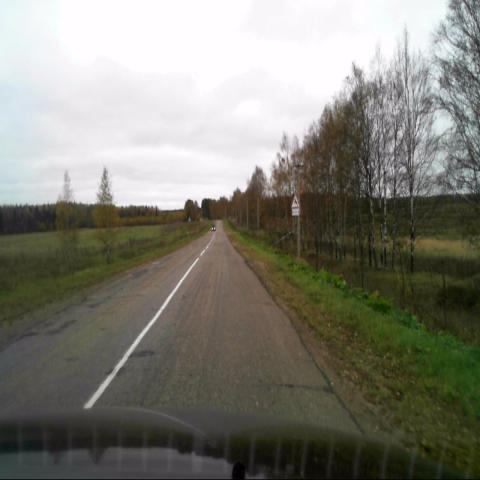1_27: (290, 194, 300, 207)
